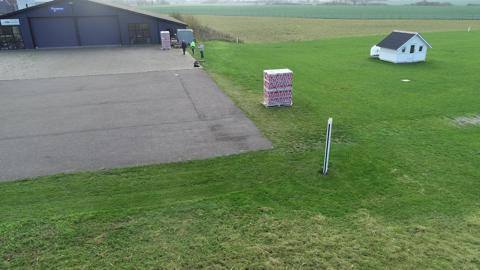RockwoolPallet: (160, 30, 171, 50)
